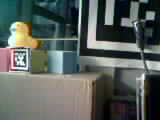duck: (4, 16, 36, 54)
